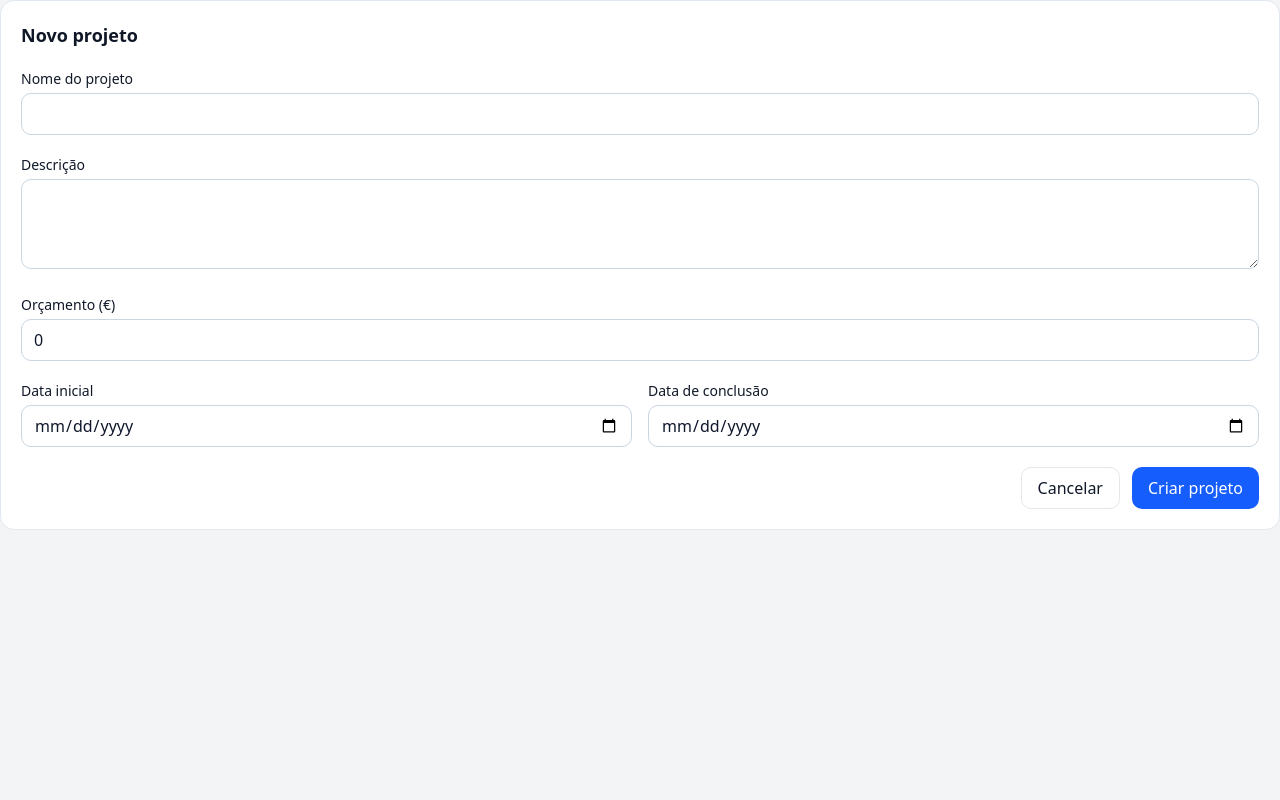
ProjectForm › deve rejeitar um nome vazio
This screenshot has width=1280, height=800.
Click the button "Criar projeto": x=1196, y=488 [1132,467,1259,509]
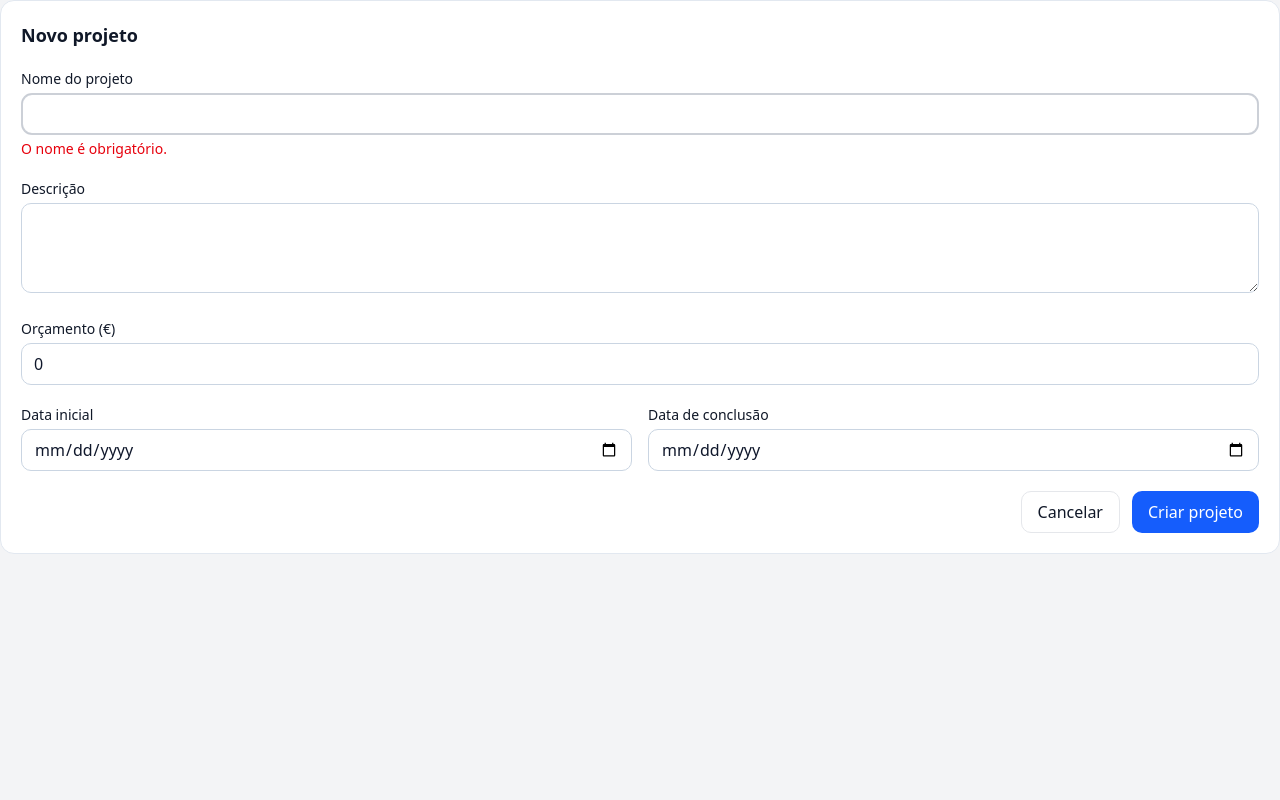
Now the text "O nome é obrigatório." is shown, box [21,139,167,158]
